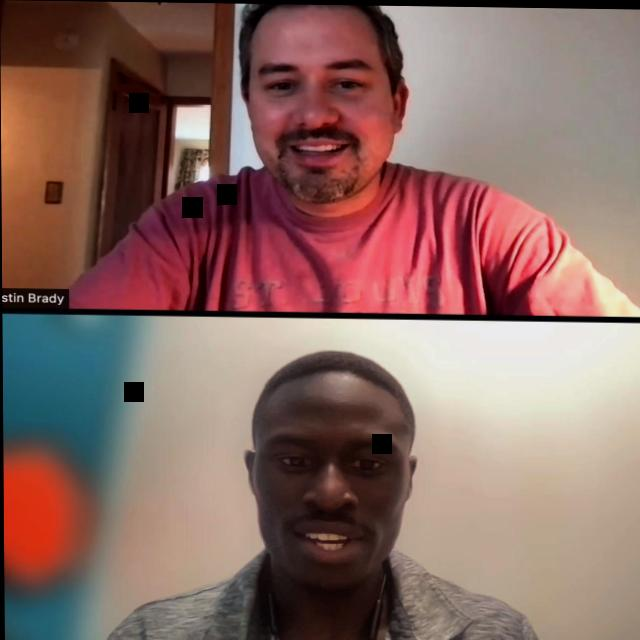NO-Mask: (243, 348, 419, 596), (236, 3, 412, 205)
